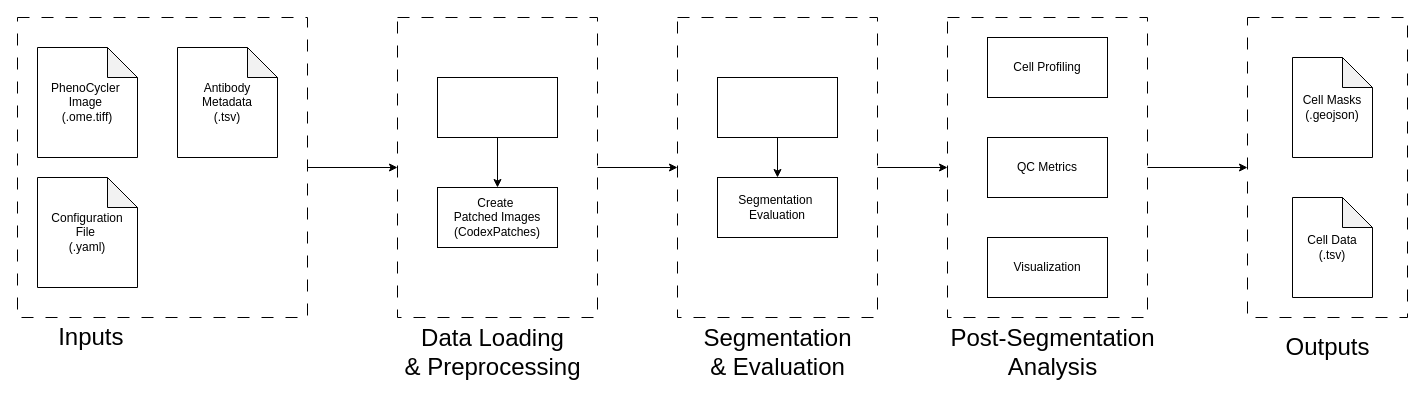
Image size: 1425x405. Some labels were removed from this diagram. The box of each missing label's shape, as (x1, y1, x2, y2) in pixels:
Cell Segmentation & Repair: (716, 76, 838, 138)
Load Image (CodexImage): (436, 76, 558, 138)
